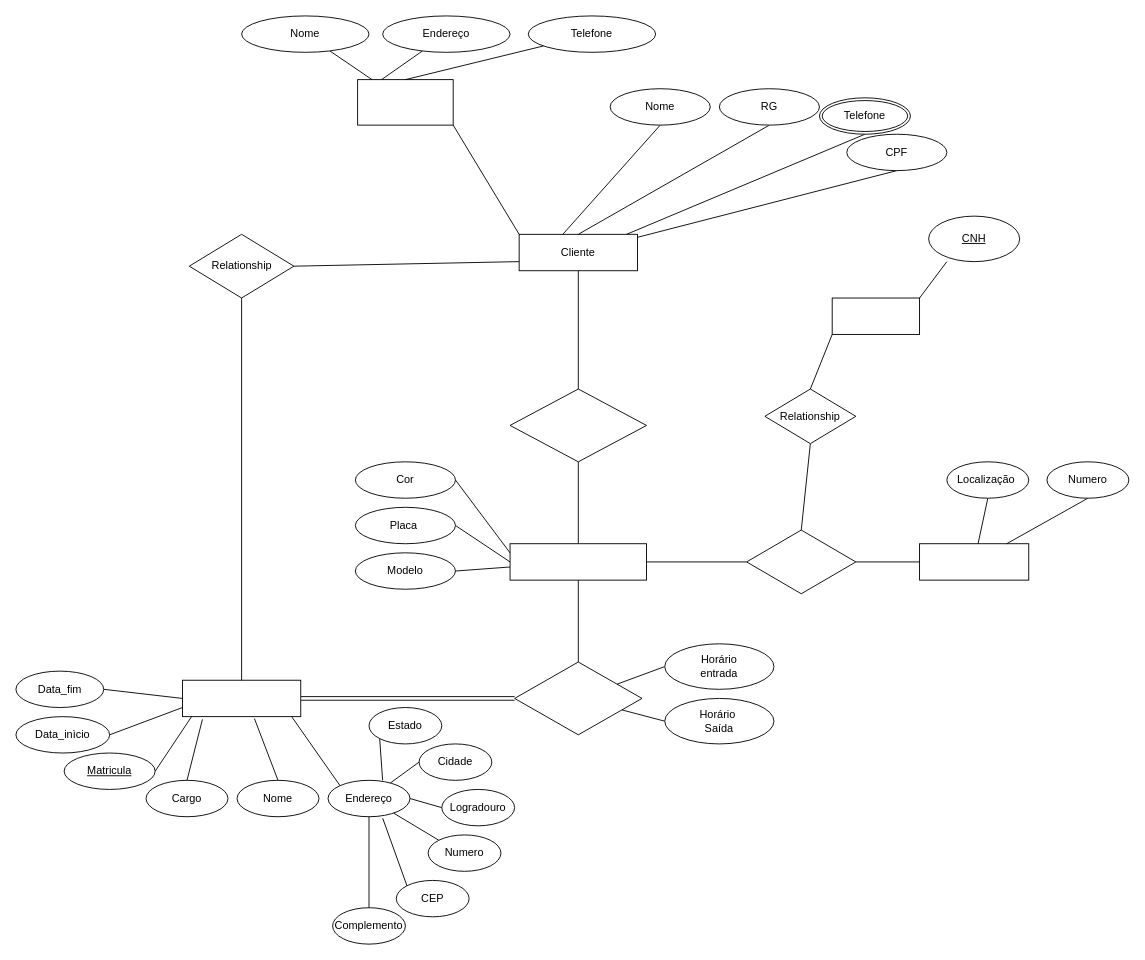
Image size: 1145x960. Some labels were removed from this diagram. The shapes that lost their labels are listed below. From the top down, each one's centre as x and y in pixels, then its label:
At [405,102]: "Estacionamento".
At [875,315]: "Monobrista".
At [578,425]: "Possui".
At [578,561]: "Veiculo".
At [801,561]: "Fica".
At [974,561]: "Vaga".
At [241,698]: "Atendente".
At [578,698]: "Registra".
